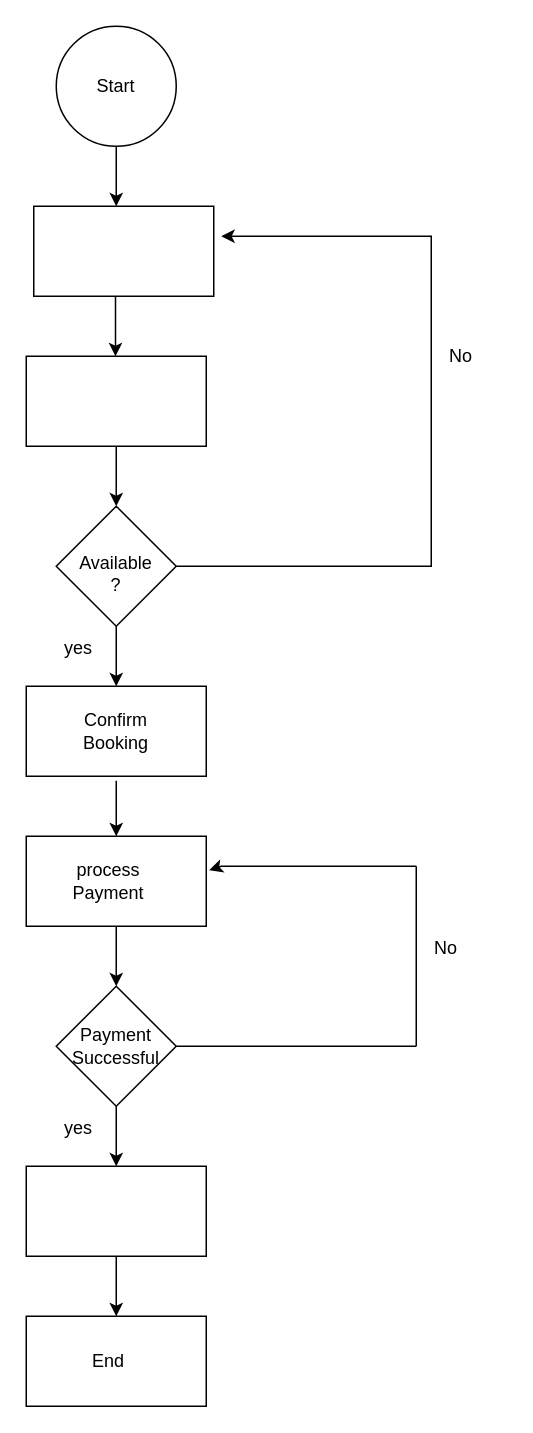
Image size: 533x1433. Some labels were removed from this diagram. Here are the shapes that lost their labels. From the top down, the centre of each, then its label:
(123,250): Select Tutor
(115,400): Check Availability
(115,1210): Notify Tutor
